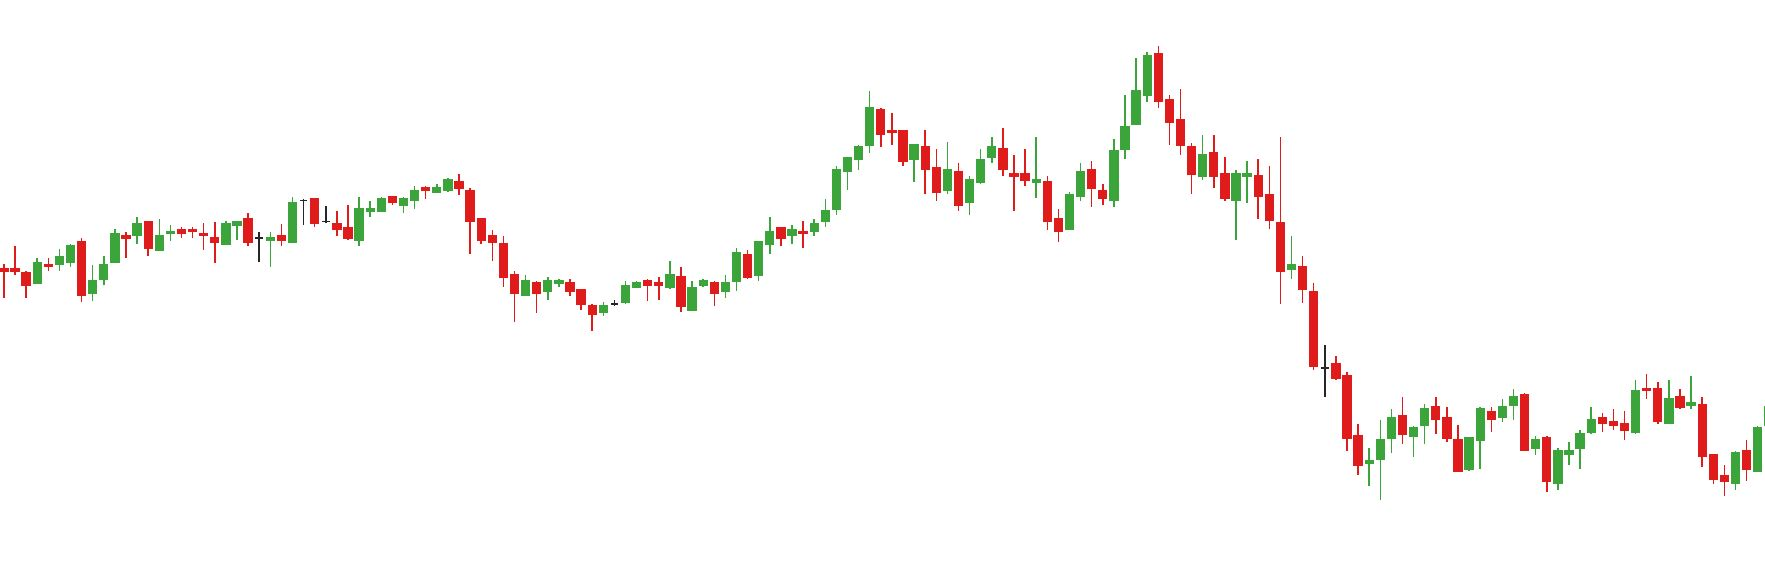buy: (953, 175, 1077, 244)
sell: (862, 50, 1168, 140)
